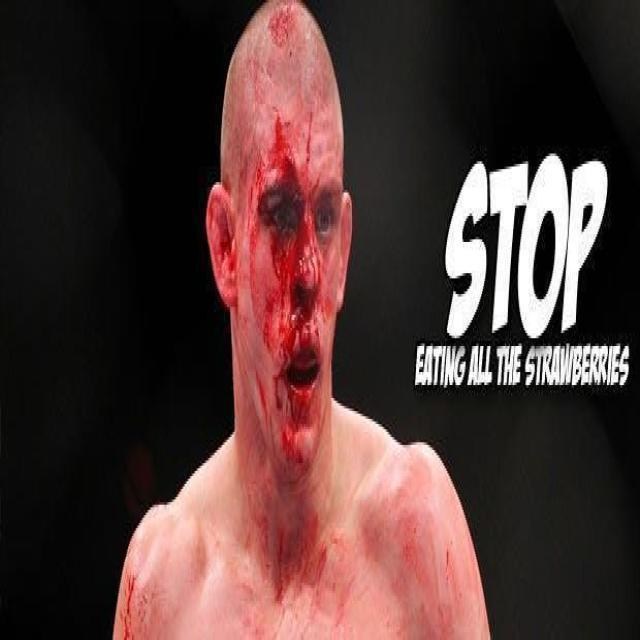flood: (250, 130, 318, 438)
